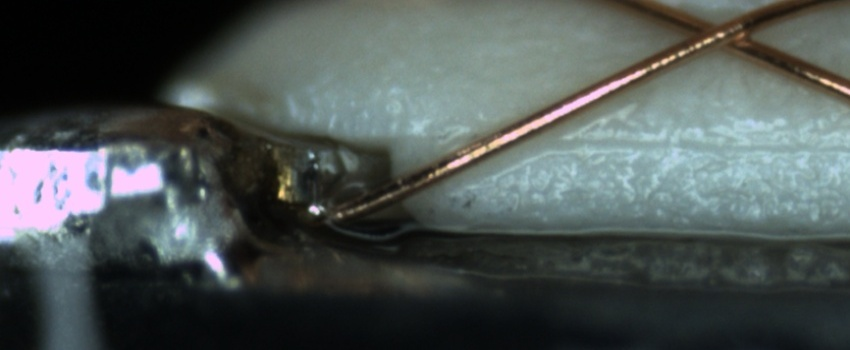CL: (664, 4, 765, 59)
DL: (459, 108, 850, 177)
